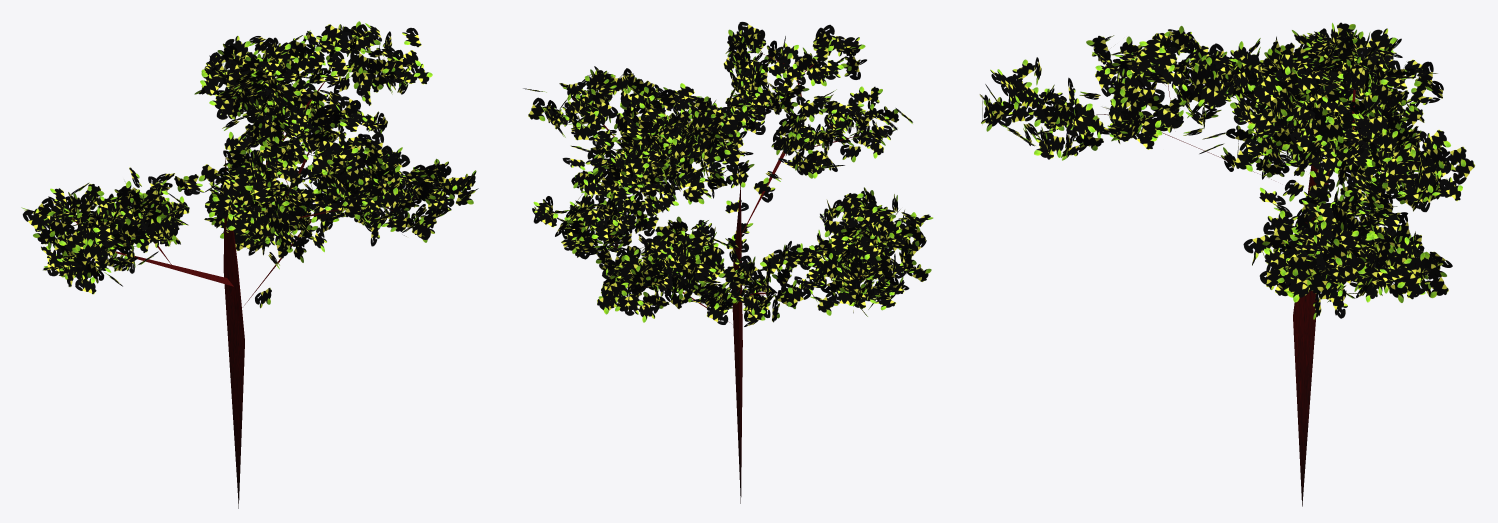
Rendered from acacia_flat_v02_LOD2.glb.
3 renders of one model, left to right at view 1: azimuth 30°, elevation 25°; view 2: azimuth 150°, elevation 25°; view 3: azimuth 270°, elevation 25°, orthographic. The views are drawn at different scales.
Visible parts, largest first — view 1: acacia_flat_v02_LOD2; view 2: acacia_flat_v02_LOD2; view 3: acacia_flat_v02_LOD2.
Boxes of the visible parts, x1,y1,x2,y2 form: acacia_flat_v02_LOD2: (21,21,478,508); acacia_flat_v02_LOD2: (523,21,933,503); acacia_flat_v02_LOD2: (979,22,1475,506).
Bounding box in the file's own units: 10.43 × 10.83 × 9.9.
2 materials, 2 textured.
